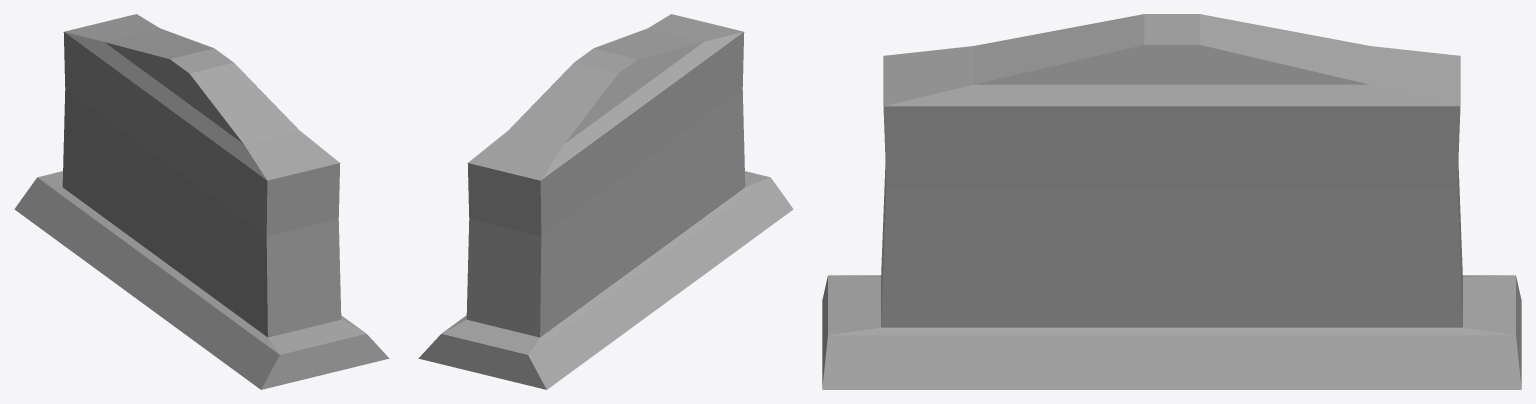
File: tombstone8.fbx
3 renders of one model, left to right at view 1: azimuth 30°, elevation 25°; view 2: azimuth 150°, elevation 25°; view 3: azimuth 270°, elevation 25°, orthographic. The views are drawn at different scales.
Parts seen in each view (by area): view 1: tombstone8; view 2: tombstone8; view 3: tombstone8.
Boxes of the visible parts, box(x1,y1,x2,y2) form: tombstone8: box(14, 14, 389, 389); tombstone8: box(418, 14, 793, 389); tombstone8: box(822, 14, 1521, 389).
Bounding box in the file's own units: 127 × 211 × 423.
